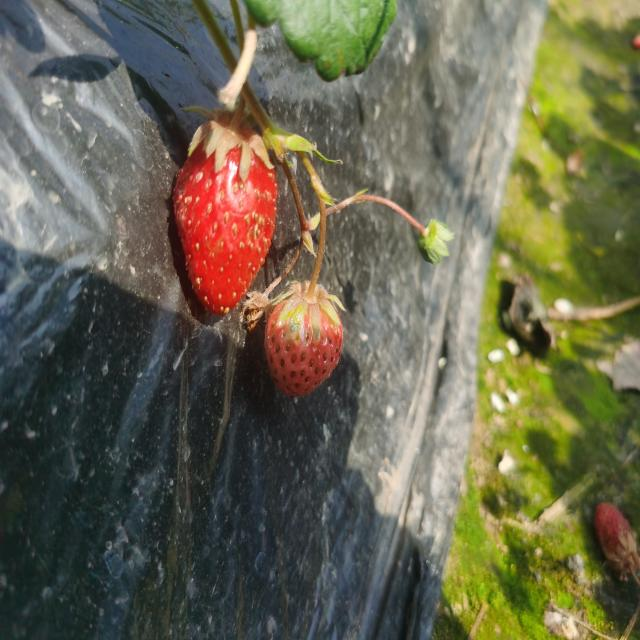stem: (305, 235, 326, 302)
strawberry: (173, 118, 279, 314), (264, 281, 343, 397)
